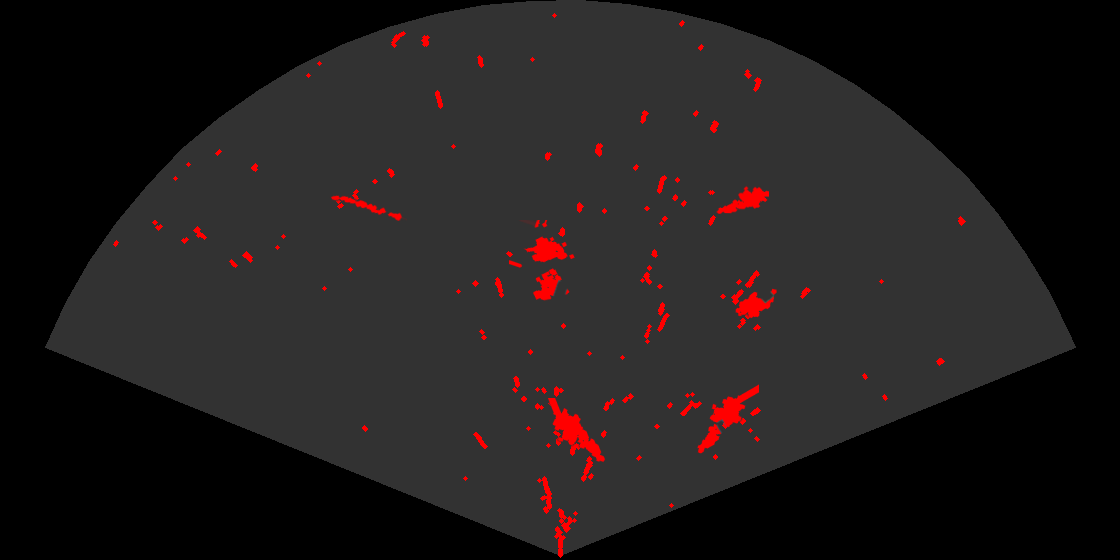AUV: (734, 287, 778, 320)
cage: (509, 220, 576, 302)
chain: (329, 194, 407, 222)
frogman: (696, 384, 759, 455), (546, 398, 607, 463), (716, 184, 769, 215)
